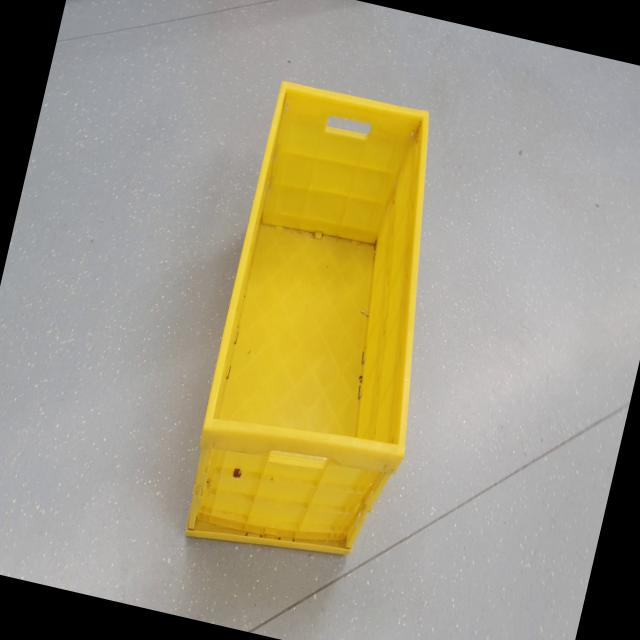box: (162, 53, 489, 608)
